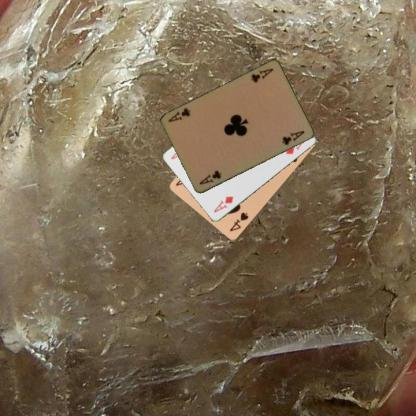4s: (227, 210, 250, 233)
Ac: (197, 168, 223, 186), (249, 66, 274, 84)
Ad: (211, 193, 234, 214)
